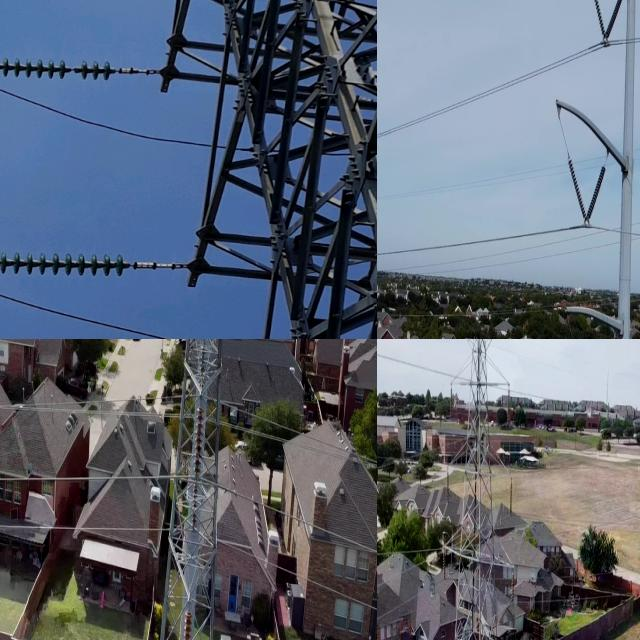杆塔: (156, 0, 377, 339), (153, 339, 230, 640), (443, 339, 516, 640)
正常绝缘子: (0, 240, 145, 293), (0, 49, 124, 91), (560, 142, 592, 233), (577, 156, 610, 239), (597, 0, 625, 52), (190, 395, 205, 483), (590, 0, 611, 50), (181, 600, 194, 640), (508, 566, 517, 608), (448, 381, 455, 422), (506, 382, 512, 426), (508, 475, 514, 518), (445, 464, 451, 502), (442, 545, 447, 583)
绝缘子破损: (68, 66, 79, 74)
